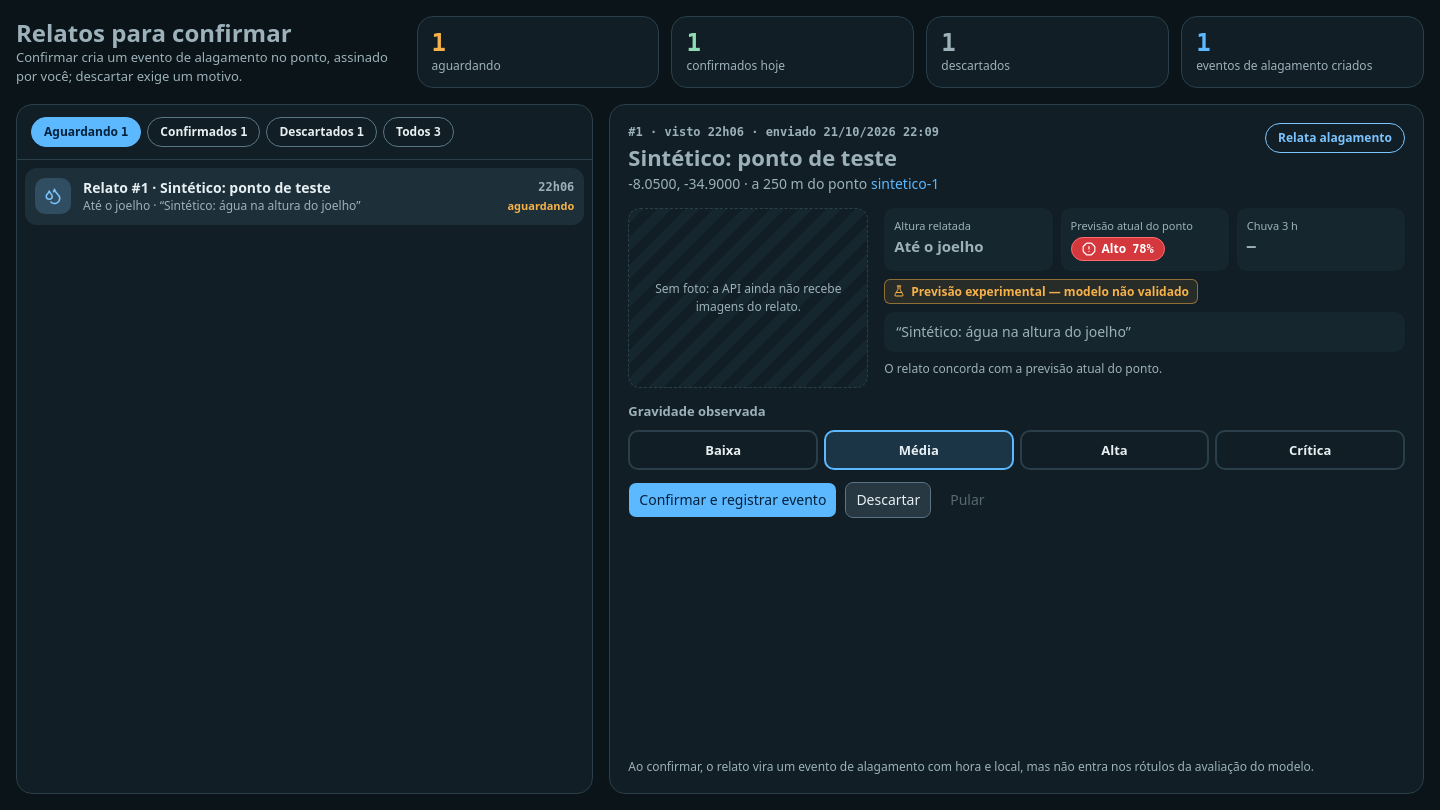
ReportsPage › 409 (já revisado) fecha o diálogo, avisa e atualiza a fila
Click the button with aria-label "Descartar relato 1" at (888, 500), box [845,482,931,518]
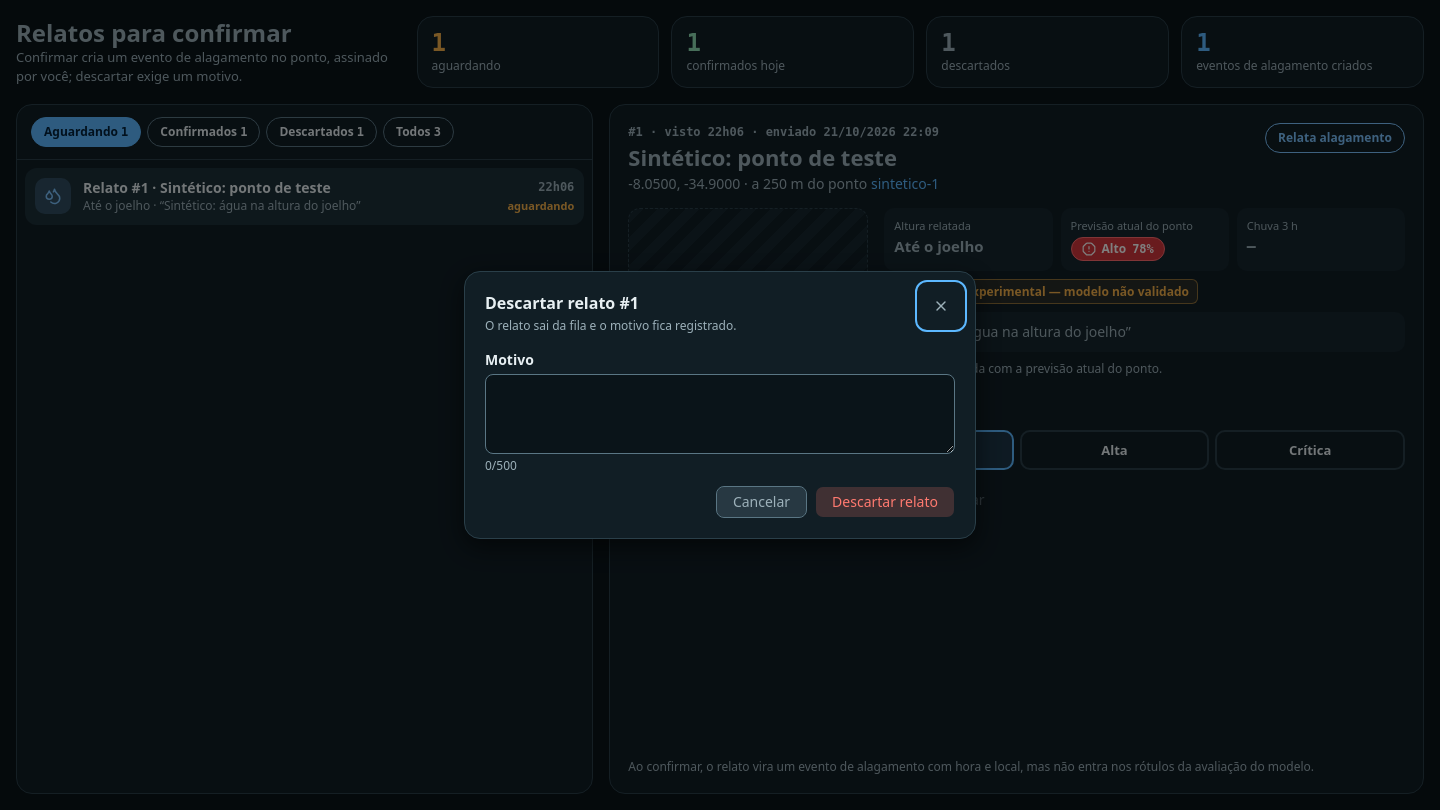
Type "x" into the text box labelled "Motivo" at (720, 414), box [485,374,955,454]
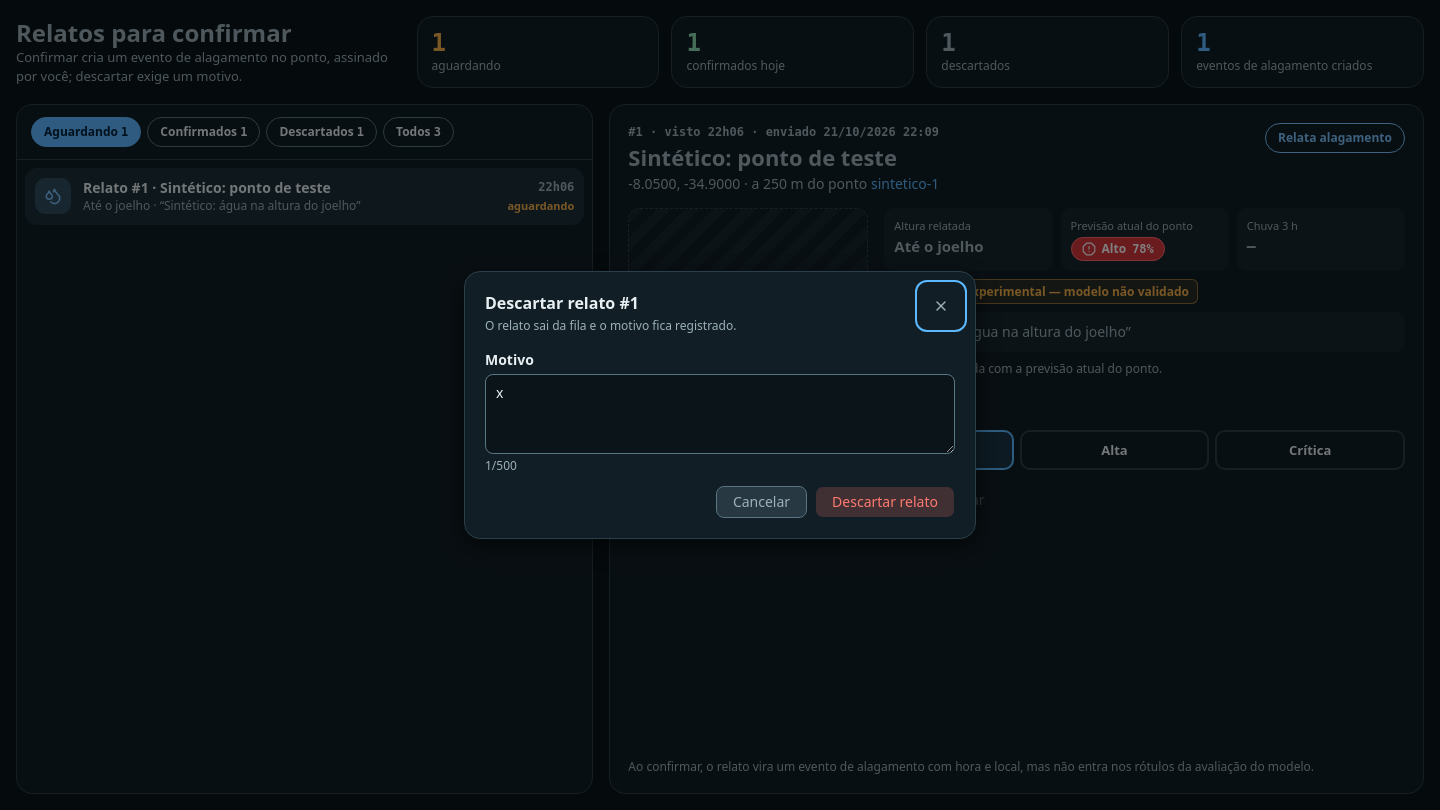
Click the button "Descartar relato" at (885, 502), box [815,486,955,518]
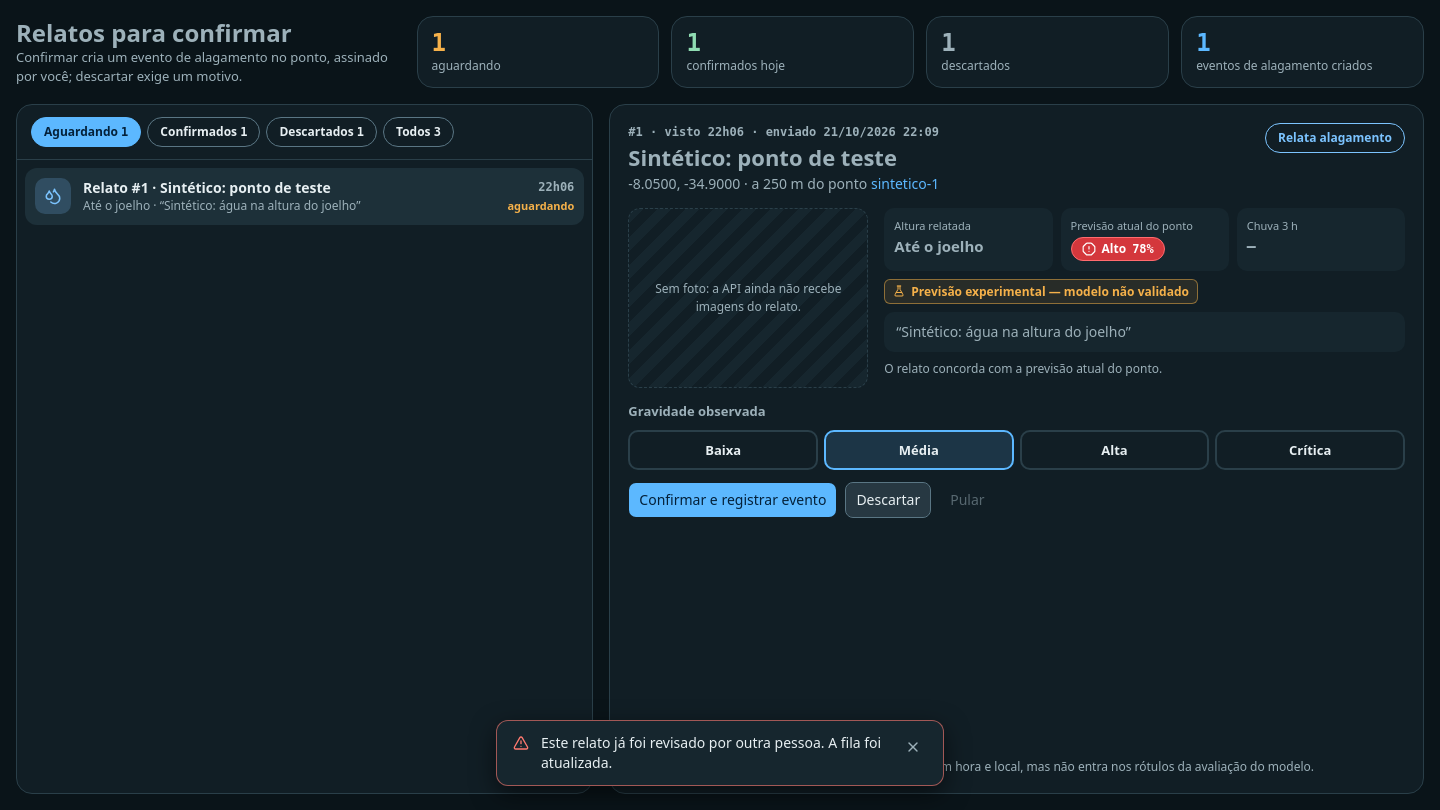
Expected: the text "já foi revisado por outra pessoa" is shown, [541,733,881,772]
Expected: the dialog is gone
